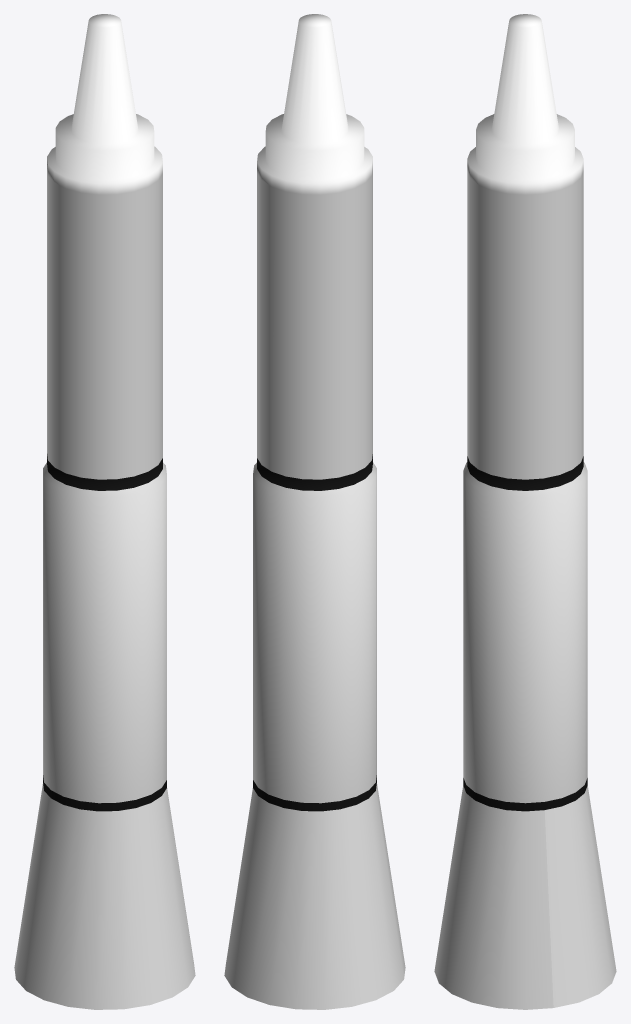
File: JupiterC_Capsula.obj
The picture shows the model from 3 angles, left to right: view 1: azimuth 30°, elevation 25°; view 2: azimuth 150°, elevation 25°; view 3: azimuth 270°, elevation 25°; orthographic projection.
Visible parts, largest first — view 1: pCylinder3_1, pCylinder3_0; view 2: pCylinder3_1, pCylinder3_0; view 3: pCylinder3_1, pCylinder3_0.
Part boxes in pixels (box(x1,y1,x2,y2)): pCylinder3_1: box(14, 14, 195, 1009); pCylinder3_0: box(43, 454, 166, 811); pCylinder3_1: box(224, 14, 405, 1009); pCylinder3_0: box(253, 454, 376, 811); pCylinder3_1: box(434, 14, 616, 1009); pCylinder3_0: box(463, 456, 587, 811).
Size of the model in its own units: 1.1 by 6.32 by 1.1.
